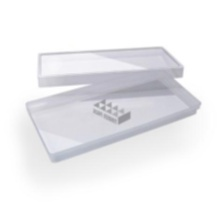plastic_box: (20, 67, 206, 167), (31, 40, 188, 92)
